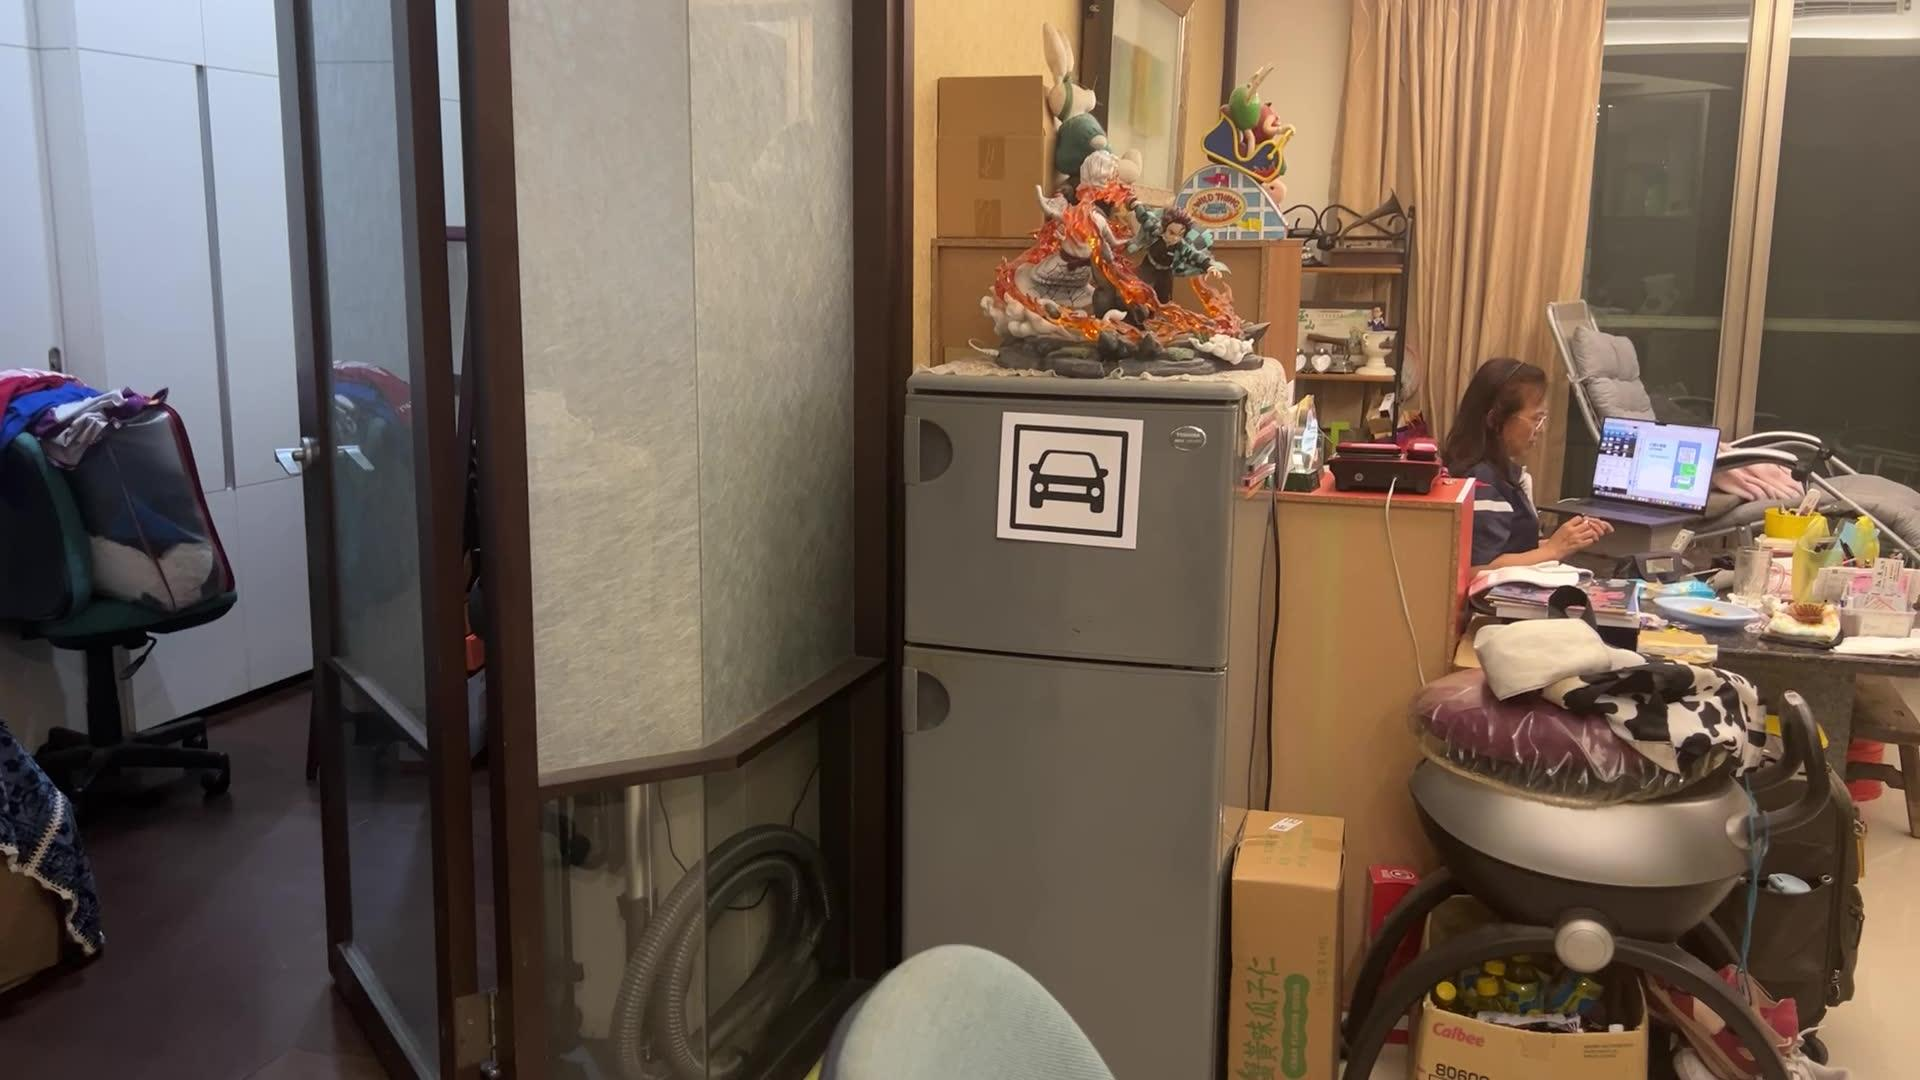car_img: (1006, 421, 1131, 541)
